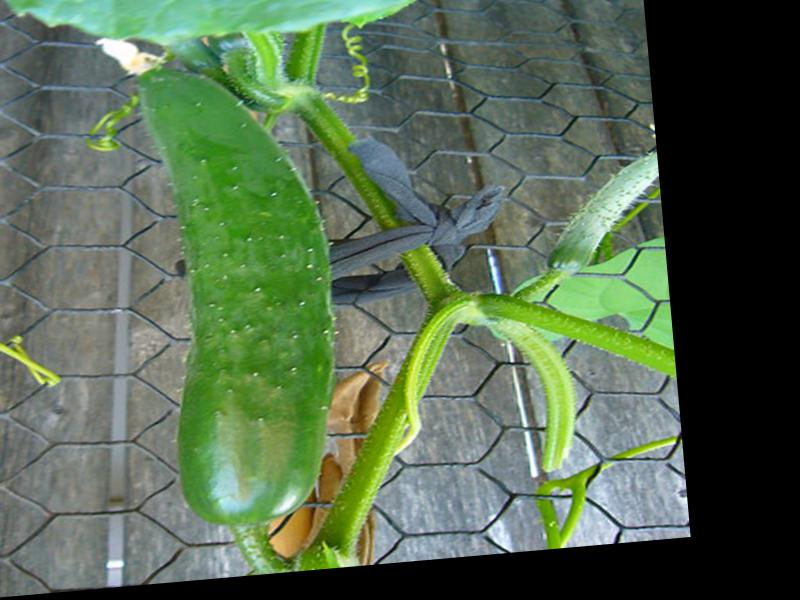Cucumber: (134, 57, 355, 531)
